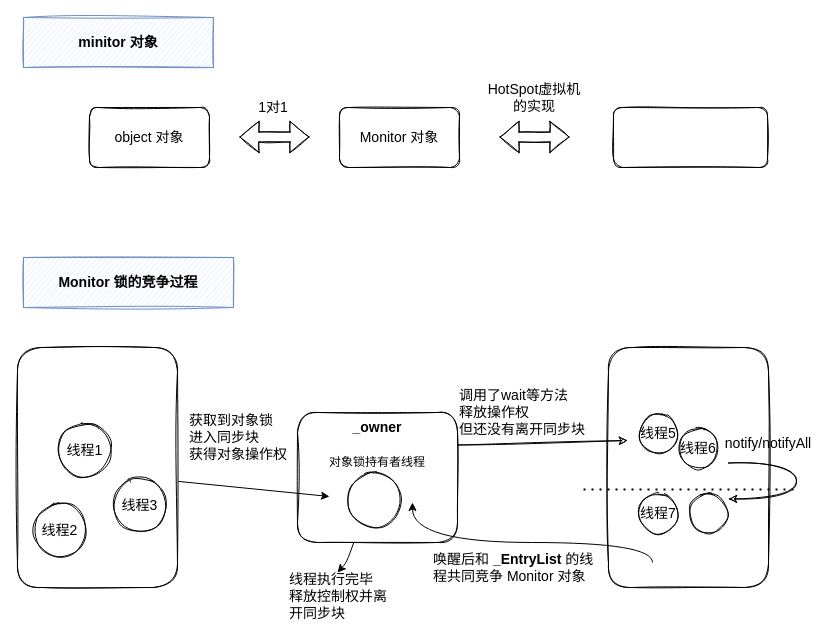
This 829x639 diagram has some shape labels left out. Here are the shapes that lost their labels. From the top down, the box of each, then its label:
(612, 106, 768, 168): ObjectMonitor 对象
(16, 346, 178, 588): _EntryList 处于 block 状态的线程
(608, 346, 768, 588): _WaitSet 处于 wait 状态的线程
(346, 472, 402, 528): 线程4
(688, 492, 728, 534): 线程8
